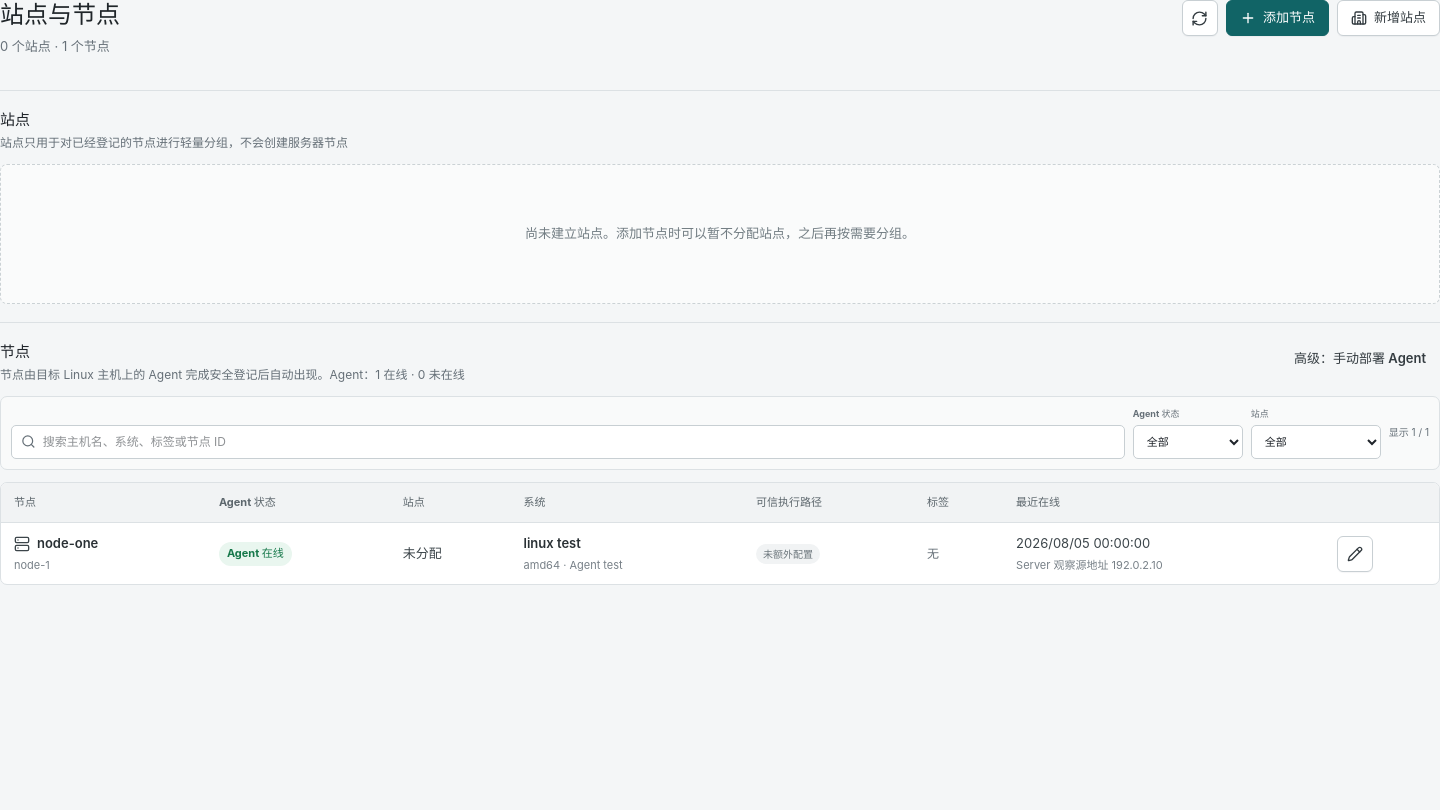
Scenario: NodesPage node removal › shows the Server structured removal error without blocking an online node in React
Click the button named "编辑节点" at coordinates (1355, 554), box 1337,536 -> 1373,572
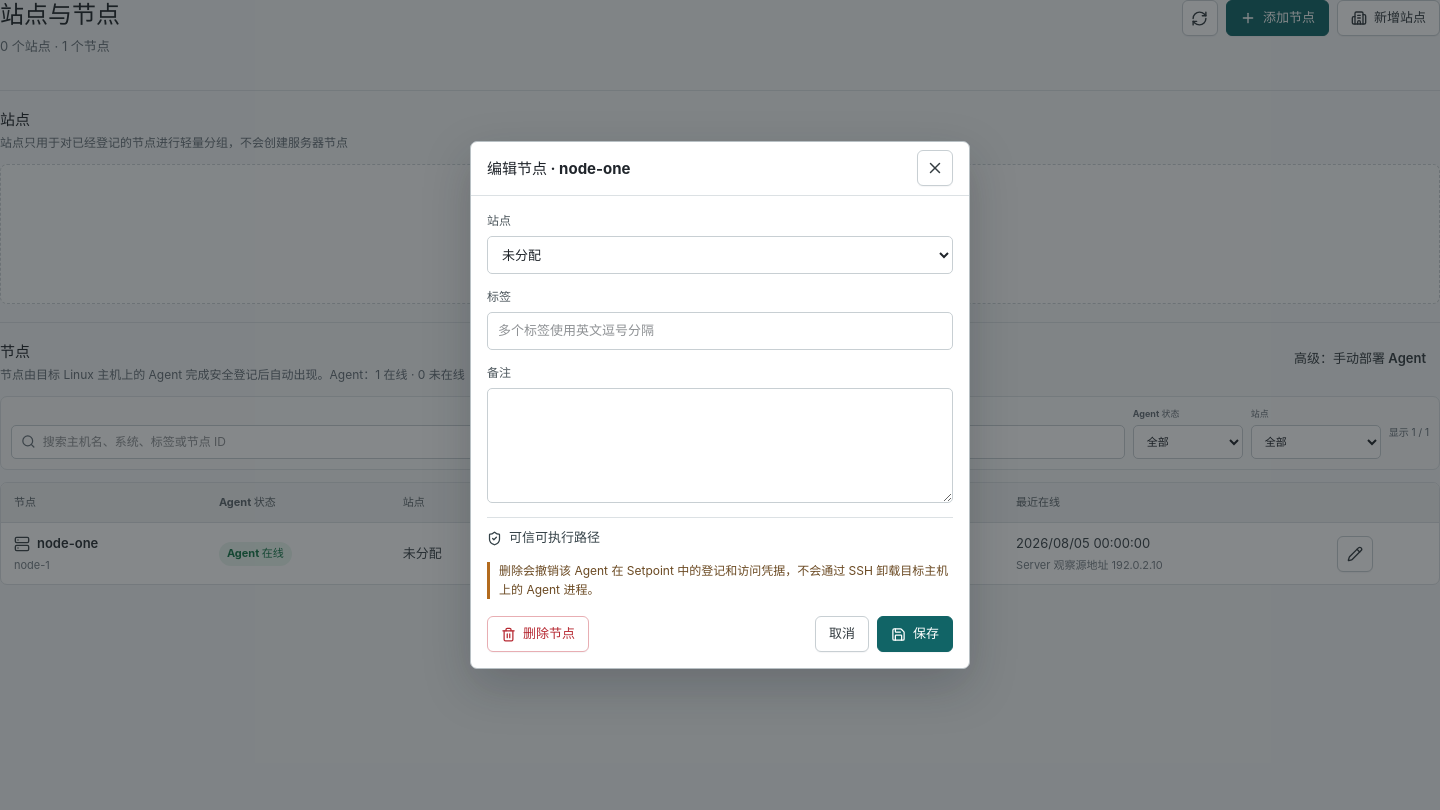
Check: the button "删除节点" is enabled
Click the button "删除节点" at coordinates (538, 634), box 487,616 -> 589,652
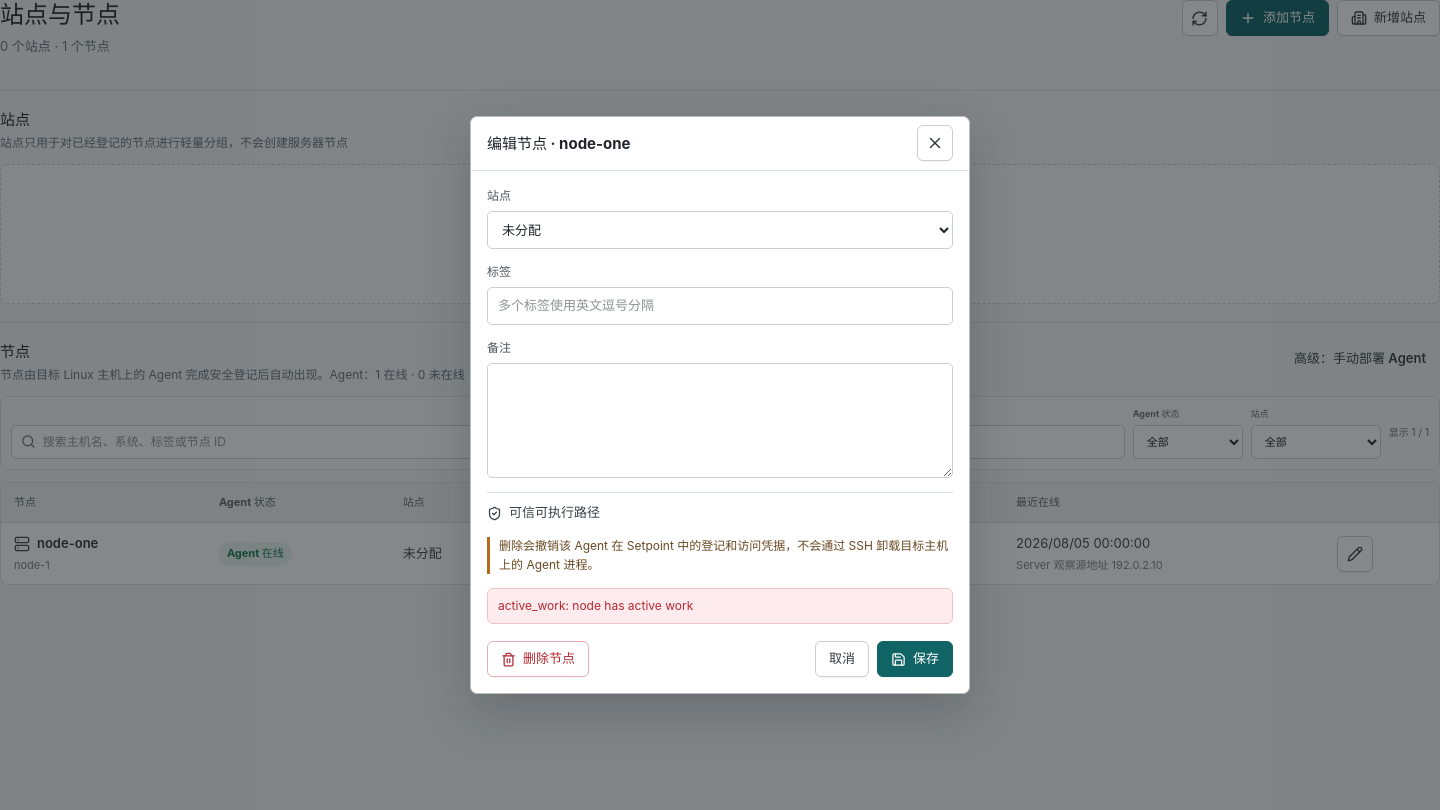
Check: the dialog "编辑节点" is shown, box 470,116 -> 970,694
Check: the text "active_work: node has active work" is shown, box 487,588 -> 953,624
